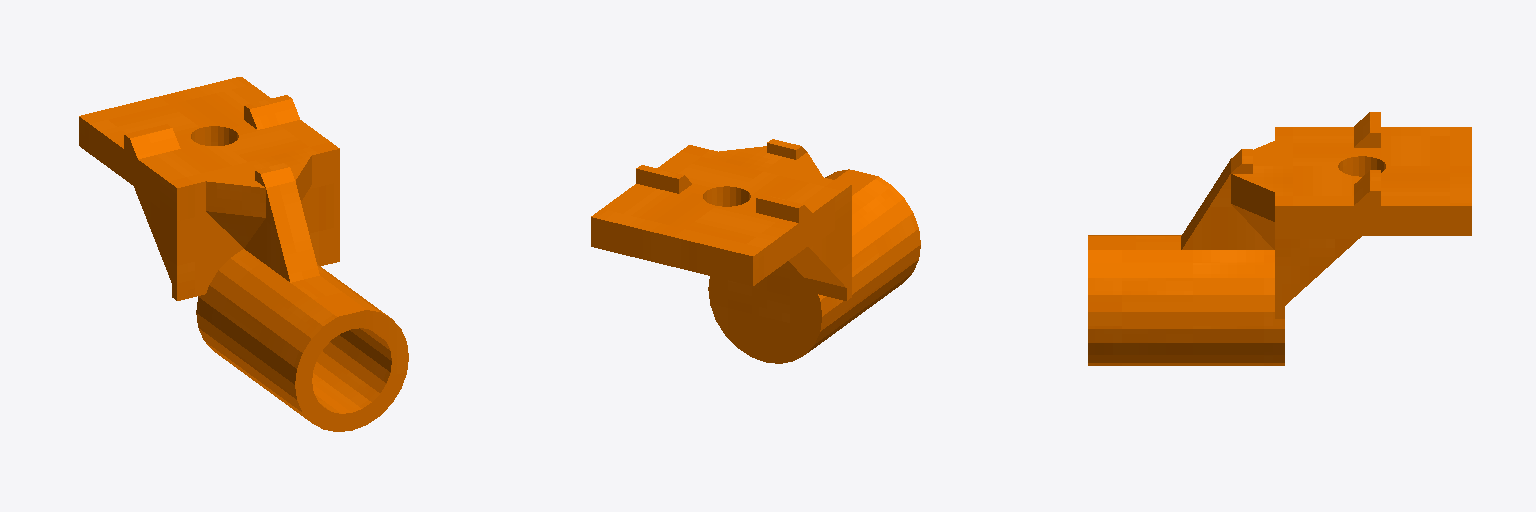
The picture shows the model from 3 angles: view 1: azimuth 30°, elevation 25°; view 2: azimuth 150°, elevation 25°; view 3: azimuth 270°, elevation 25°; orthographic projection.
Size of the model in its own units: 17.11 by 21 by 35.
1 materials, 1 textured.